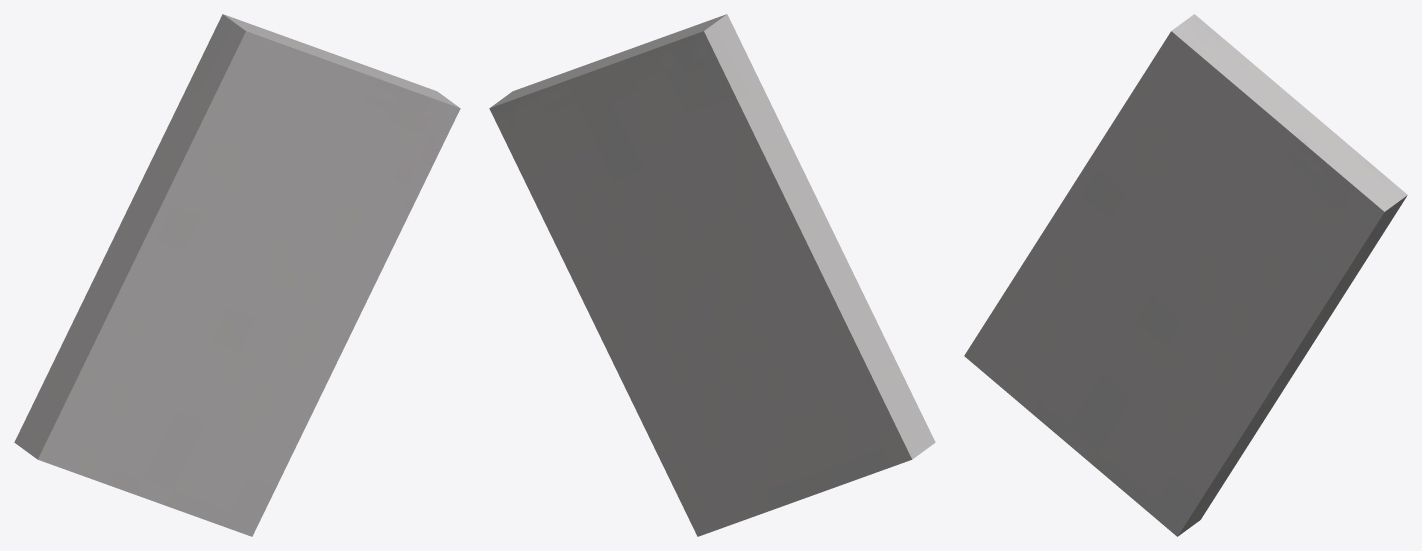
Rendered from pump_body__rubber_foot_2.glb.
The picture shows the model from 3 angles, left to right: view 1: azimuth 30°, elevation 25°; view 2: azimuth 150°, elevation 25°; view 3: azimuth 330°, elevation 25°; orthographic projection.
Visible parts, largest first — view 1: geometry_0; view 2: geometry_0; view 3: geometry_0.
Part boxes in pixels (box(x1,y1,x2,y2)): geometry_0: box(14, 14, 460, 536); geometry_0: box(489, 14, 935, 536); geometry_0: box(964, 14, 1407, 536).
Bounding box in the file's own units: 0.1878 × 0.2152 × 0.018.
Materials: 1 (1 with a texture image).
